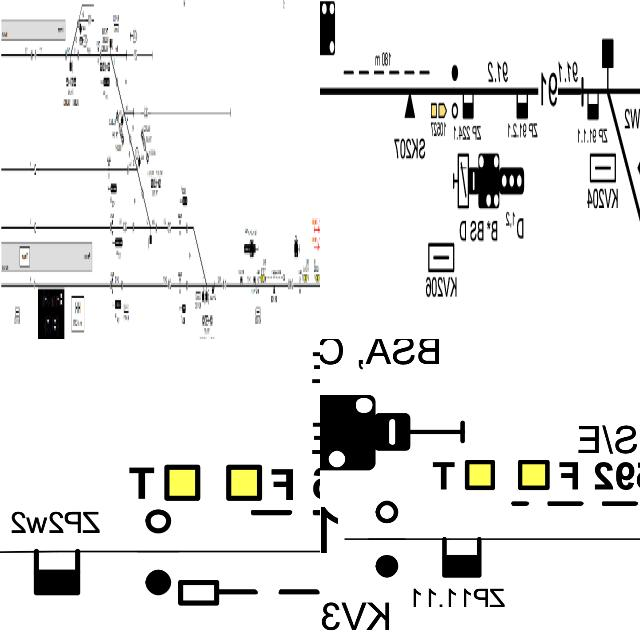mainsignal: (178, 196, 188, 207)
radzaehler: (21, 534, 90, 614), (432, 527, 494, 583), (511, 90, 532, 126), (584, 85, 602, 126), (461, 86, 475, 125), (239, 275, 243, 286), (253, 274, 256, 287), (212, 284, 214, 295)
trackjoint: (185, 276, 189, 294), (109, 217, 112, 236), (120, 278, 124, 292), (109, 276, 112, 294), (141, 186, 144, 203), (115, 74, 118, 90), (129, 134, 132, 147), (132, 220, 135, 233), (99, 49, 102, 62), (30, 47, 32, 65), (65, 50, 68, 61), (127, 164, 129, 177), (186, 221, 188, 232), (77, 50, 79, 61)
tracknumber: (320, 496, 347, 568), (537, 70, 560, 110), (167, 212, 172, 240), (288, 278, 294, 292), (133, 46, 138, 62), (87, 14, 92, 29), (167, 278, 172, 292), (34, 218, 38, 235), (123, 219, 127, 234), (222, 276, 226, 290), (144, 107, 148, 118), (34, 160, 36, 177), (34, 280, 36, 294), (34, 49, 36, 60)
weiche: (599, 31, 619, 104), (136, 154, 143, 178), (147, 222, 153, 250), (68, 46, 73, 74), (120, 106, 126, 127), (205, 278, 209, 306), (202, 275, 205, 308), (77, 18, 82, 34), (109, 38, 113, 57)
